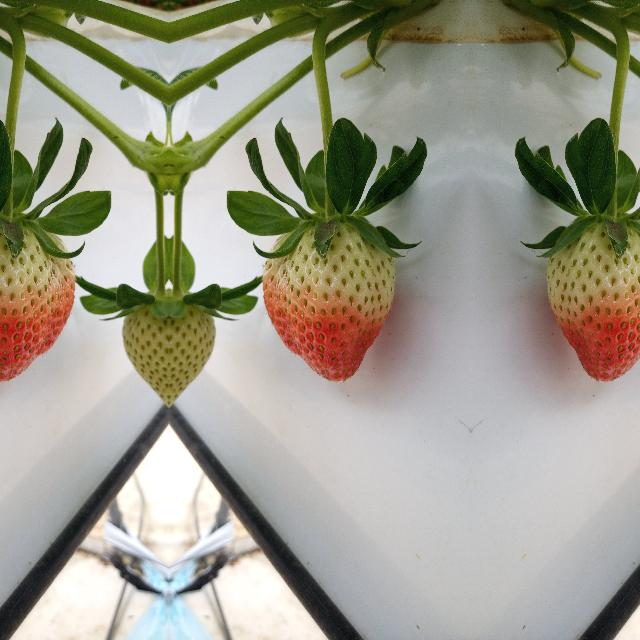Health_25: (171, 276, 217, 410), (119, 276, 165, 410)
Health_75: (260, 220, 396, 382), (545, 220, 640, 382), (0, 220, 76, 382)
